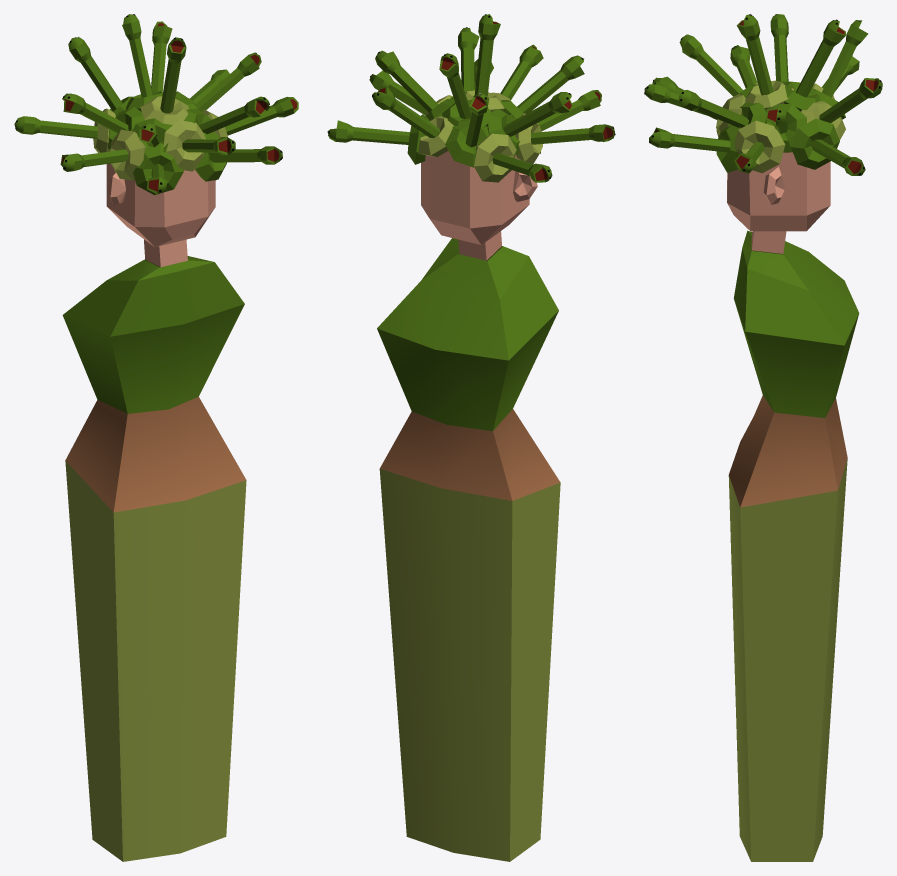
File: Medusa.fbx
The picture shows the model from 3 angles, left to right: view 1: azimuth 30°, elevation 25°; view 2: azimuth 150°, elevation 25°; view 3: azimuth 270°, elevation 25°; orthographic projection.
Visible parts, largest first — view 1: Medusa; view 2: Medusa; view 3: Medusa.
Part boxes in pixels (bbox=[...]): Medusa: bbox=[14, 14, 298, 861]; Medusa: bbox=[327, 14, 615, 861]; Medusa: bbox=[644, 14, 882, 861].
Bounding box in the file's own units: 51.87 × 168 × 44.13.
2 materials, 1 textured.
